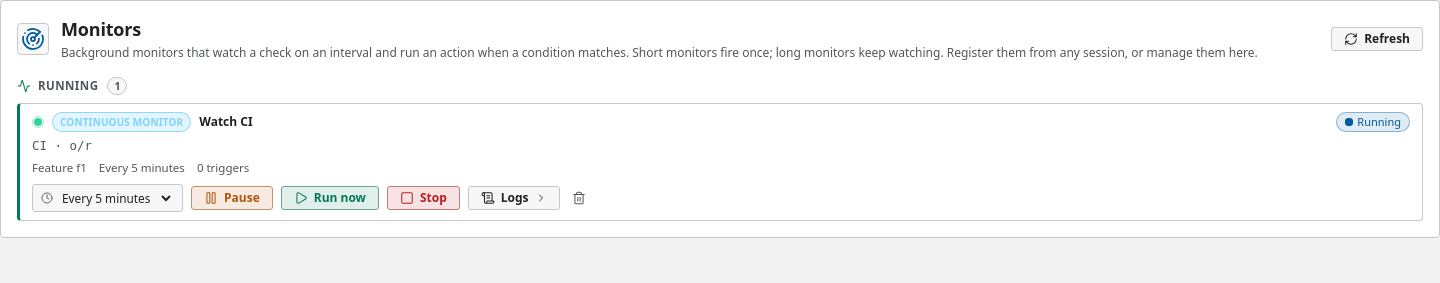
Test case: AutomationsView › surfaces a poll-frequency update error
Expected: the text "Watch CI" is shown, [199,113,253,130]
Select "Every 1 minute" in the dropdown named "Poll frequency" at {"x": 116, "y": 198}, box [58,189,174,207]
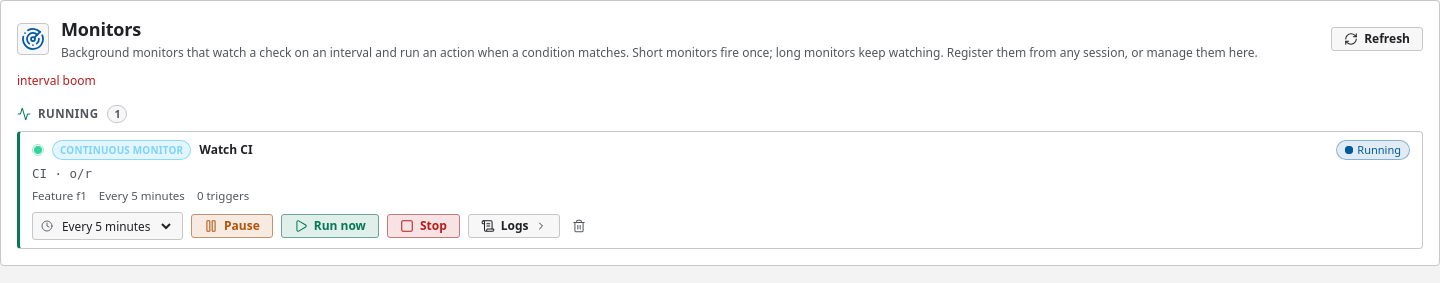
Now the text "interval boom" is shown, box [17,72,96,89]
